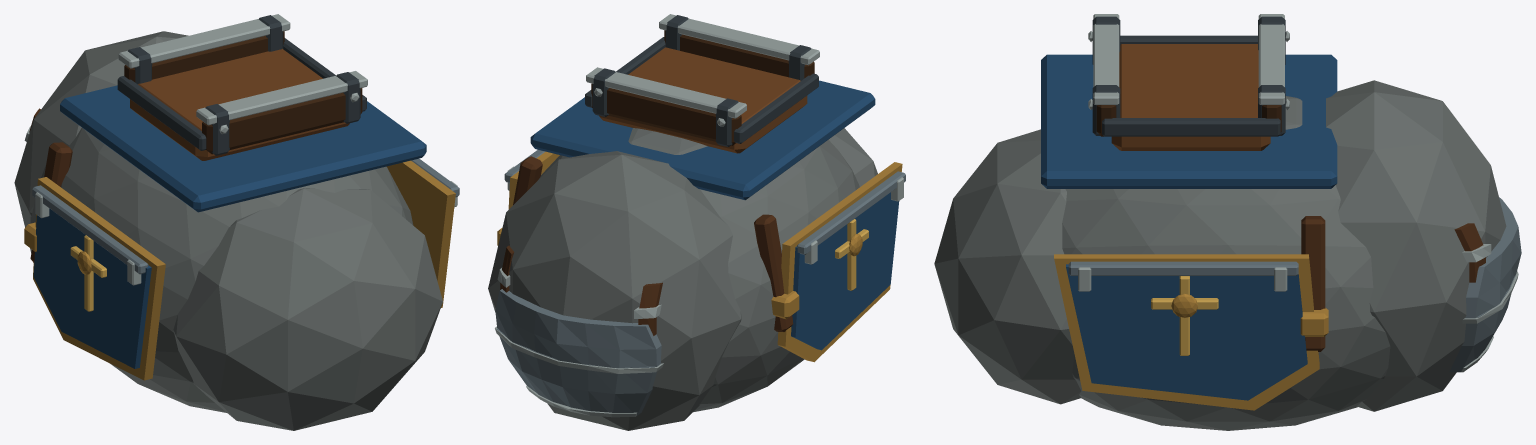
Rendered from Body.glb.
3 views of the same model, side by side, from view 1: azimuth 30°, elevation 25°; view 2: azimuth 150°, elevation 25°; view 3: azimuth 270°, elevation 25° (orthographic). The views are drawn at different scales.
Visible parts, largest first — view 1: Sculpture; view 2: Sculpture; view 3: Sculpture.
Boxes of the visible parts, <box> form: Sculpture: <box>14,14,459,430</box>; Sculpture: <box>488,14,905,430</box>; Sculpture: <box>934,14,1521,430</box>.
Size of the model in its own units: 1.87 by 1.81 by 2.7.
